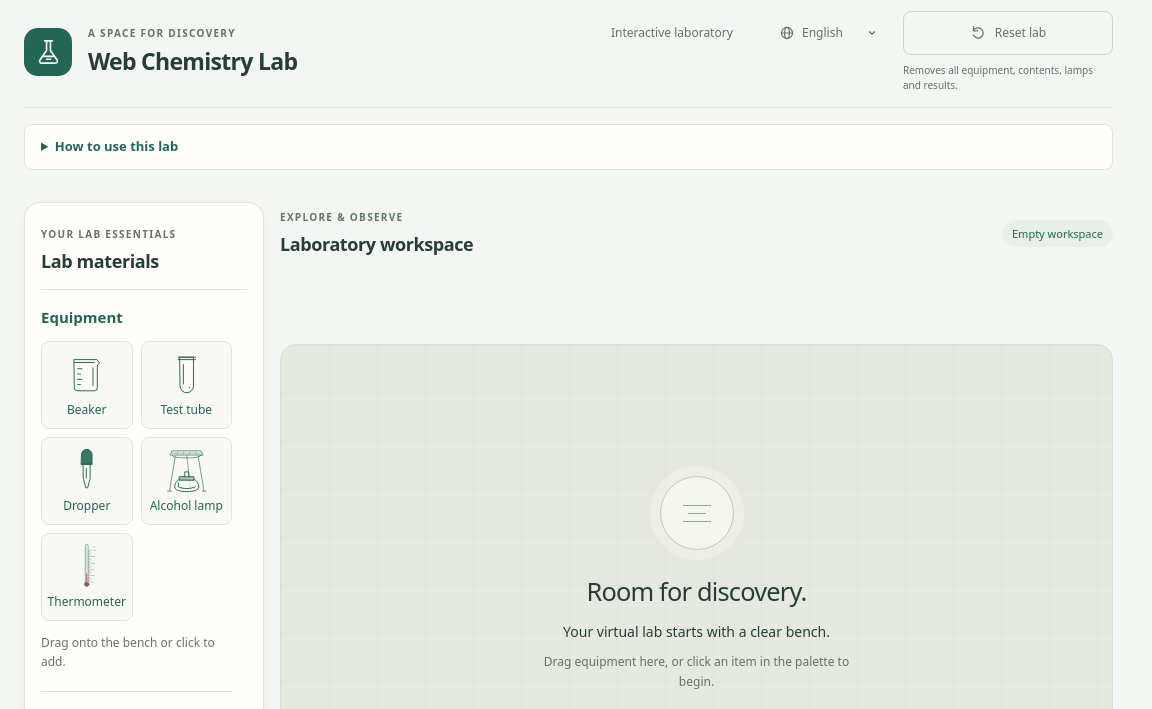
Test: selective bench cleanup › removes Beaker and retains focus on a connected workspace landmark
Click the button with aria-label "Add Beaker": point(87, 384) [41,340,132,428]
(page scrolled)
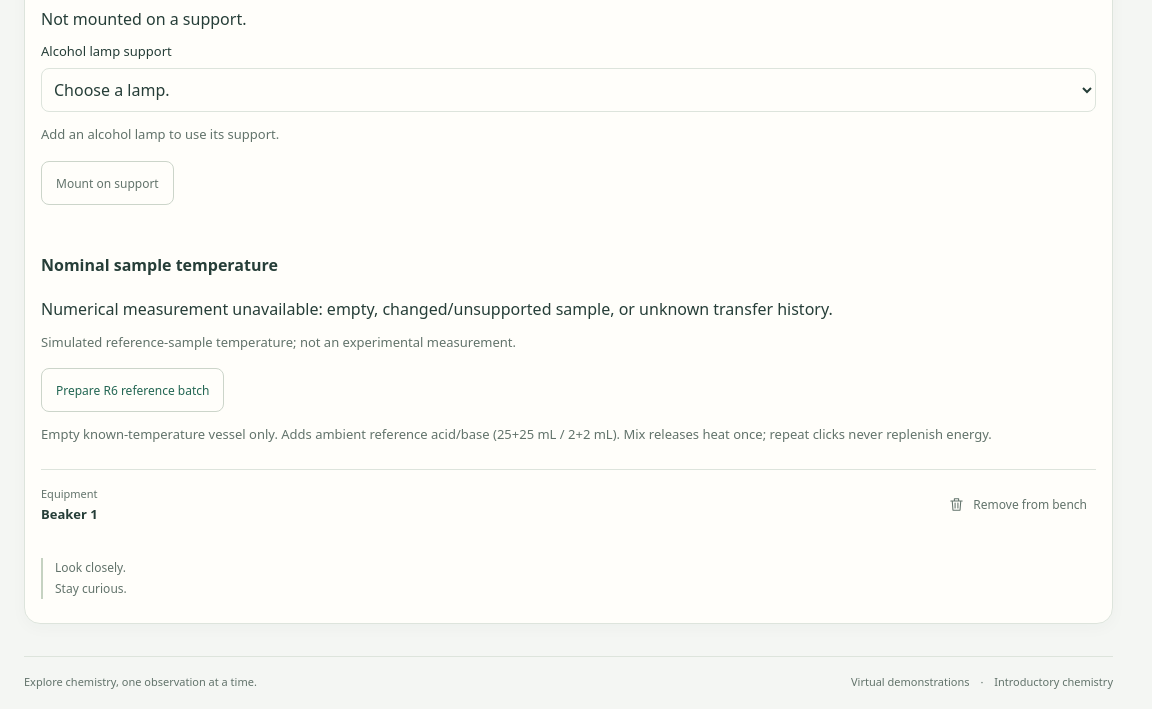
Click the button "Remove from bench": point(1018, 504) [939,482,1096,526]
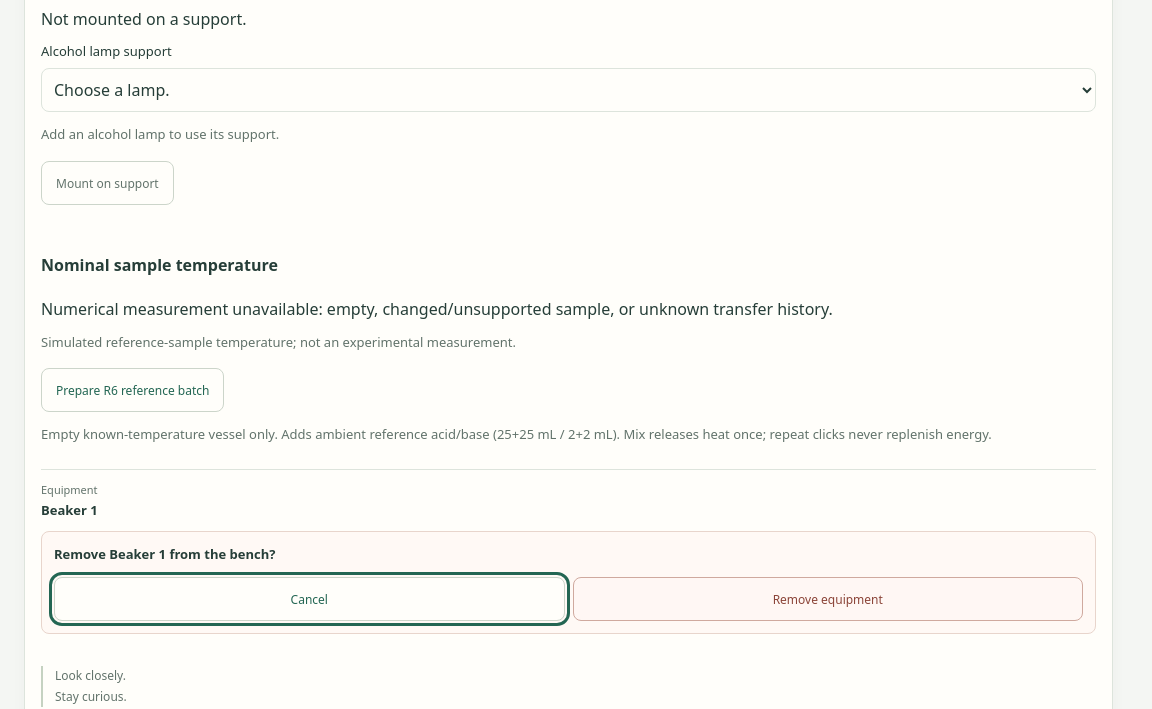
Click the button "Remove equipment": point(828, 599) [572,577,1083,621]
(page scrolled)
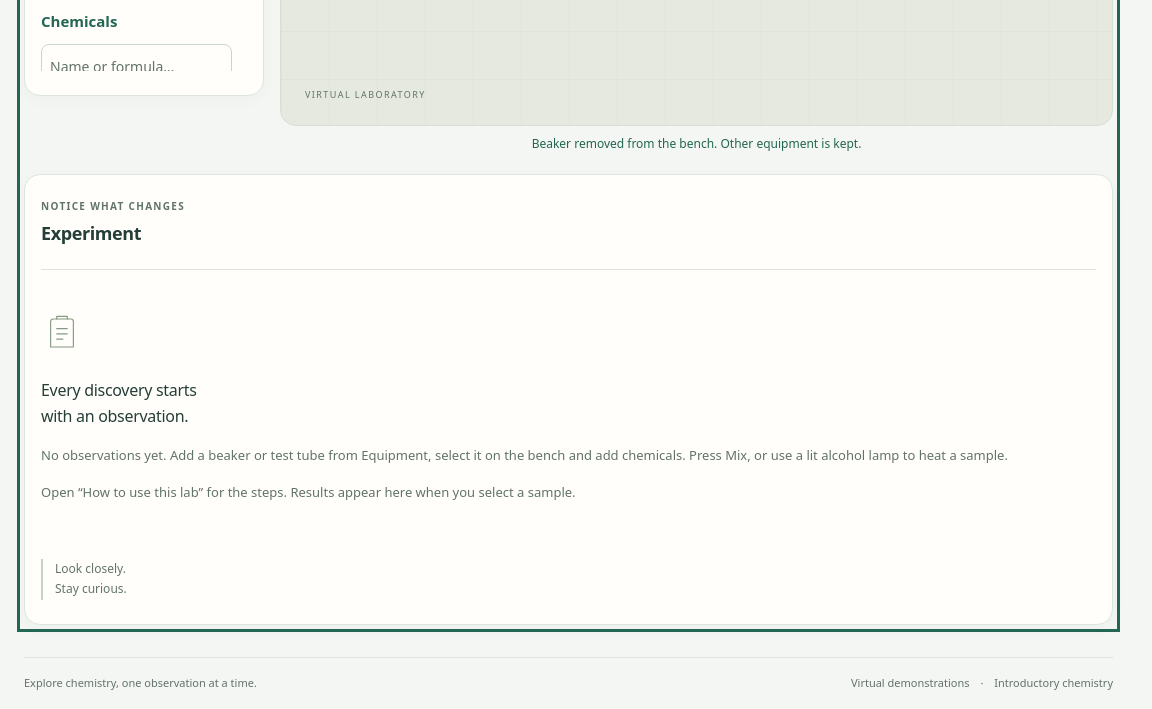
Expected: the text "Beaker 1" is gone
